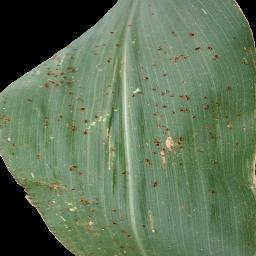Corn_Common_Rust: (0, 0, 142, 253), (145, 26, 256, 196), (144, 206, 160, 238)
